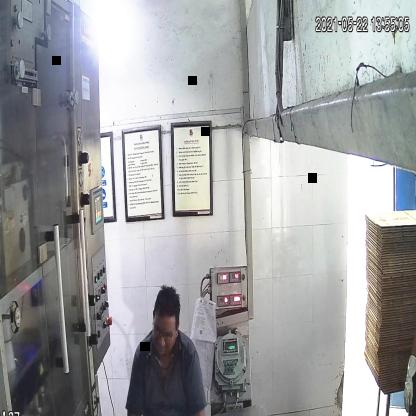goggles: (148, 321, 180, 347)
